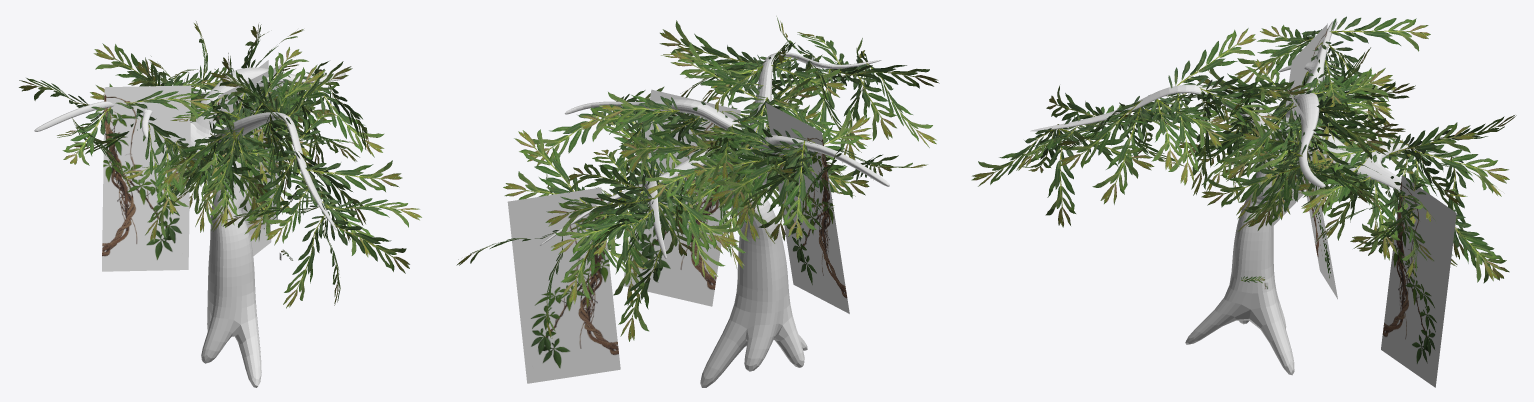
The model's file is Tree2.fbx.
3 renders of one model, left to right at view 1: azimuth 30°, elevation 25°; view 2: azimuth 150°, elevation 25°; view 3: azimuth 270°, elevation 25°, orthographic. The views are drawn at different scales.
Parts seen in each view (by area): view 1: Tree|vineLeaves1|Dupli|2.1, Tree, Tree|vineLeaves1|Dupli|1.1, Tree|drapeLeaves1|Dupli|110, Tree|drapeLeaves1|Dupli|117, Tree|drapeLeaves1|Dupli|125, Tree|drapeLeaves1|Dupli|116, Tree|drapeLeaves1|Dupli|99, Tree|drapeLeaves1|Dupli|79, Tree|drapeLeaves1|Dupli|14, Tree|drapeLeaves1|Dupli|126, Tree|drapeLeaves1|Dupli|137 (+33 smaller); view 2: Tree|vineLeaves1|Dupli|0.1, Tree, Tree|vineLeaves1|Dupli|2.1, Tree|vineLeaves1|Dupli|1.1, Tree|drapeLeaves1|Dupli|60, Tree|drapeLeaves1|Dupli|147, Tree|drapeLeaves1|Dupli|37, Tree|drapeLeaves1|Dupli|50, Tree|drapeLeaves1|Dupli|74, Tree|drapeLeaves1|Dupli|29, Tree|drapeLeaves1|Dupli|89, Tree|drapeLeaves1|Dupli|62 (+48 smaller); view 3: Tree, Tree|vineLeaves1|Dupli|0.1, Tree|vineLeaves1|Dupli|1.1, Tree|drapeLeaves1|Dupli|130, Tree|drapeLeaves1|Dupli|131, Tree|drapeLeaves1|Dupli|113, Tree|drapeLeaves1|Dupli|53, Tree|drapeLeaves1|Dupli|108, Tree|drapeLeaves1|Dupli|57, Tree|drapeLeaves1|Dupli|120, Tree|drapeLeaves1|Dupli|128, Tree|drapeLeaves1|Dupli|112 (+43 smaller).
Part boxes in pixels (bbox=[...]): Tree|vineLeaves1|Dupli|2.1: bbox=[102, 85, 191, 271]; Tree: bbox=[34, 67, 345, 387]; Tree|vineLeaves1|Dupli|1.1: bbox=[217, 65, 282, 234]; Tree|drapeLeaves1|Dupli|110: bbox=[305, 160, 402, 191]; Tree|drapeLeaves1|Dupli|117: bbox=[244, 150, 298, 241]; Tree|drapeLeaves1|Dupli|125: bbox=[326, 217, 409, 273]; Tree|drapeLeaves1|Dupli|116: bbox=[283, 214, 324, 308]; Tree|drapeLeaves1|Dupli|99: bbox=[160, 117, 237, 189]; Tree|drapeLeaves1|Dupli|79: bbox=[307, 82, 384, 157]; Tree|drapeLeaves1|Dupli|14: bbox=[62, 106, 111, 165]; Tree|drapeLeaves1|Dupli|126: bbox=[323, 198, 421, 227]; Tree|drapeLeaves1|Dupli|137: bbox=[93, 43, 172, 86]; Tree|vineLeaves1|Dupli|0.1: bbox=[507, 187, 620, 383]; Tree: bbox=[539, 52, 889, 387]; Tree|vineLeaves1|Dupli|2.1: bbox=[765, 102, 849, 313]; Tree|vineLeaves1|Dupli|1.1: bbox=[623, 89, 740, 306]; Tree|drapeLeaves1|Dupli|60: bbox=[545, 187, 653, 232]; Tree|drapeLeaves1|Dupli|147: bbox=[782, 140, 816, 239]; Tree|drapeLeaves1|Dupli|37: bbox=[514, 129, 592, 214]; Tree|drapeLeaves1|Dupli|50: bbox=[658, 182, 740, 251]; Tree|drapeLeaves1|Dupli|74: bbox=[579, 96, 679, 141]; Tree|drapeLeaves1|Dupli|29: bbox=[619, 131, 711, 170]; Tree|drapeLeaves1|Dupli|89: bbox=[670, 42, 759, 109]; Tree|drapeLeaves1|Dupli|62: bbox=[618, 248, 662, 341]; Tree: bbox=[1030, 21, 1458, 375]; Tree|vineLeaves1|Dupli|0.1: bbox=[1381, 175, 1456, 387]; Tree|vineLeaves1|Dupli|1.1: bbox=[1287, 89, 1337, 299]; Tree|drapeLeaves1|Dupli|130: bbox=[1329, 16, 1430, 51]; Tree|drapeLeaves1|Dupli|131: bbox=[1201, 164, 1300, 207]; Tree|drapeLeaves1|Dupli|113: bbox=[1168, 28, 1255, 88]; Tree|drapeLeaves1|Dupli|53: bbox=[1387, 122, 1476, 158]; Tree|drapeLeaves1|Dupli|108: bbox=[1092, 107, 1150, 204]; Tree|drapeLeaves1|Dupli|57: bbox=[1414, 140, 1509, 193]; Tree|drapeLeaves1|Dupli|120: bbox=[1058, 100, 1144, 171]; Tree|drapeLeaves1|Dupli|128: bbox=[1045, 128, 1075, 227]; Tree|drapeLeaves1|Dupli|112: bbox=[1196, 77, 1282, 139].
Bounding box in the file's own units: 4863 × 4421 × 6850.
3 materials, 2 textured.
